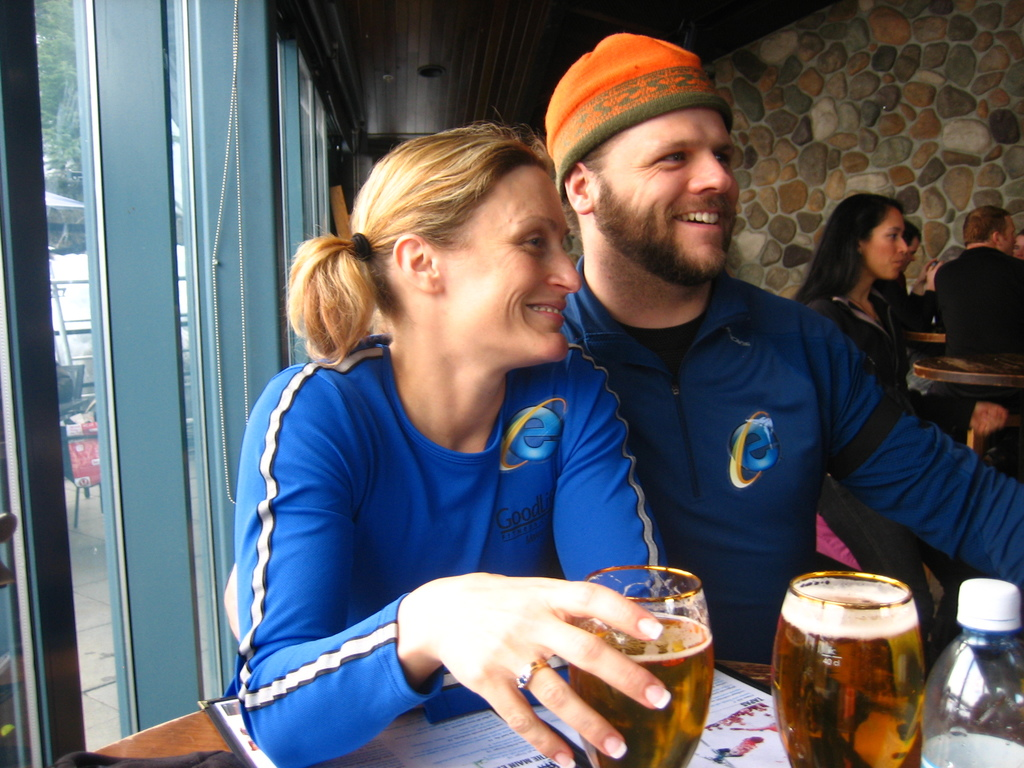Beer: (762, 557, 929, 767), (561, 560, 713, 767)
